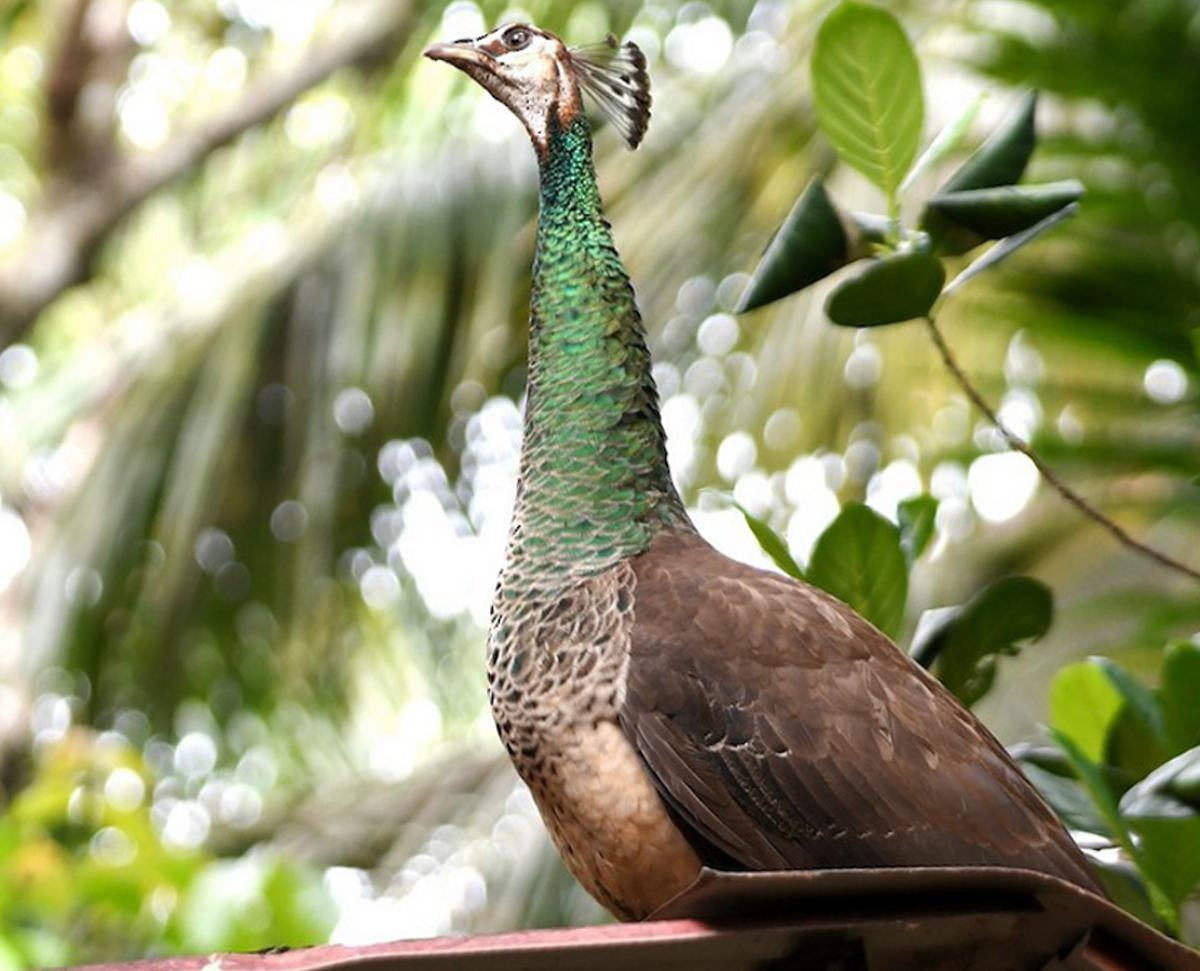peacock: (407, 7, 1138, 964)
